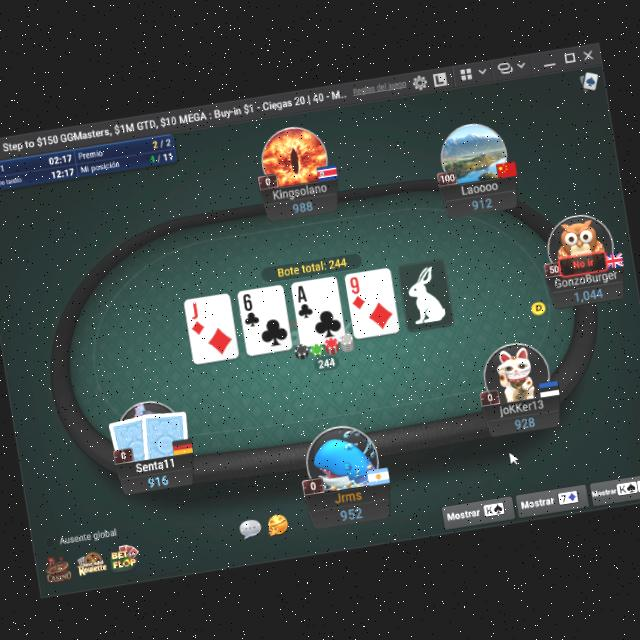6c: (240, 290, 262, 328)
9d: (345, 273, 369, 313)
Ac: (292, 281, 315, 320)
Jd: (185, 298, 208, 337)
card_back: (136, 403, 194, 460), (106, 412, 156, 464)
dealer: (527, 297, 548, 317)
pot_text: (274, 254, 348, 277)
stack_text: (572, 283, 606, 302), (338, 502, 366, 521), (145, 471, 171, 488), (290, 196, 315, 213), (469, 193, 494, 210), (512, 412, 536, 428)
